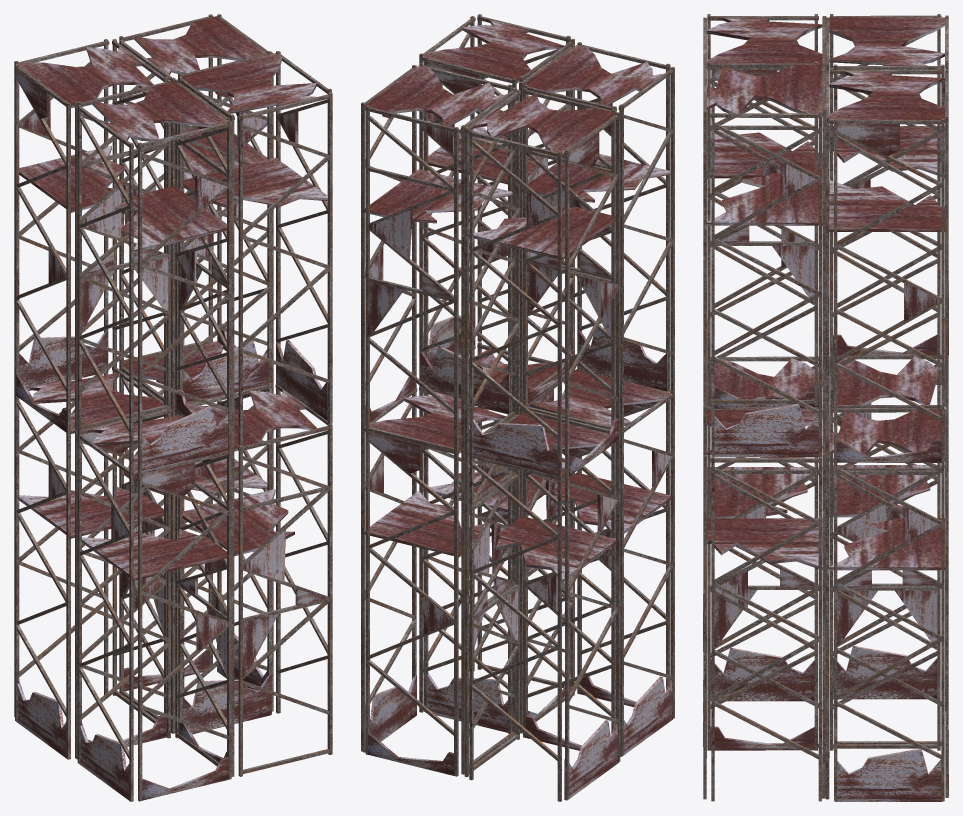
File: Skyscraper.fbx
3 views of the same model, side by side, from view 1: azimuth 30°, elevation 25°; view 2: azimuth 150°, elevation 25°; view 3: azimuth 270°, elevation 25° (orthographic). The views are drawn at different scales.
Visible parts, largest first — view 1: polySurface46; view 2: polySurface46; view 3: polySurface46.
Part boxes in pixels (box(x1,y1,x2,y2)): polySurface46: box(14, 14, 332, 801); polySurface46: box(361, 14, 674, 801); polySurface46: box(703, 14, 948, 801).
Bounding box in the file's own units: 73.69 × 225 × 72.74.
Materials: 2 (2 with a texture image).
